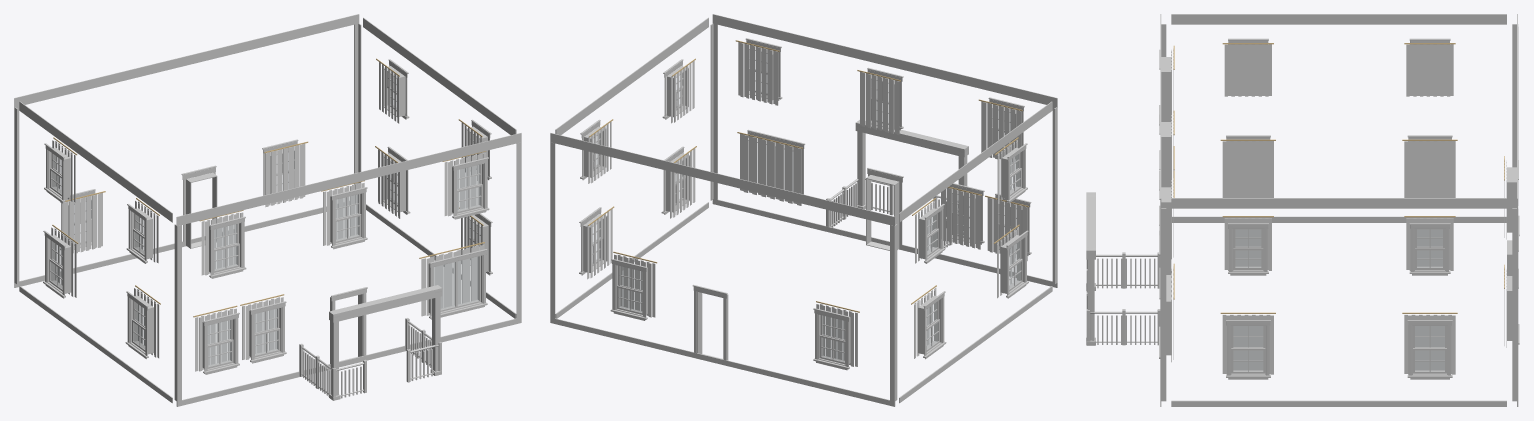
The model's file is SM_Town_House_Mar5_Trim.fbx.
The picture shows the model from 3 angles, left to right: view 1: azimuth 30°, elevation 25°; view 2: azimuth 150°, elevation 25°; view 3: azimuth 270°, elevation 25°; orthographic projection. The views are drawn at different scales.
Visible parts, largest first — view 1: SM_Town_House_Mar5_Trim_1; view 2: SM_Town_House_Mar5_Trim_1; view 3: SM_Town_House_Mar5_Trim_1.
Part boxes in pixels (x1=…): SM_Town_House_Mar5_Trim_1: x1=14, y1=14, x2=521, y2=406; SM_Town_House_Mar5_Trim_1: x1=550, y1=14, x2=1057, y2=406; SM_Town_House_Mar5_Trim_1: x1=1086, y1=14, x2=1519, y2=406.
Size of the model in its own units: 1113 by 582 by 1096.
